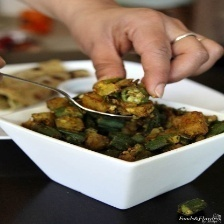roti: (0, 58, 91, 113)
